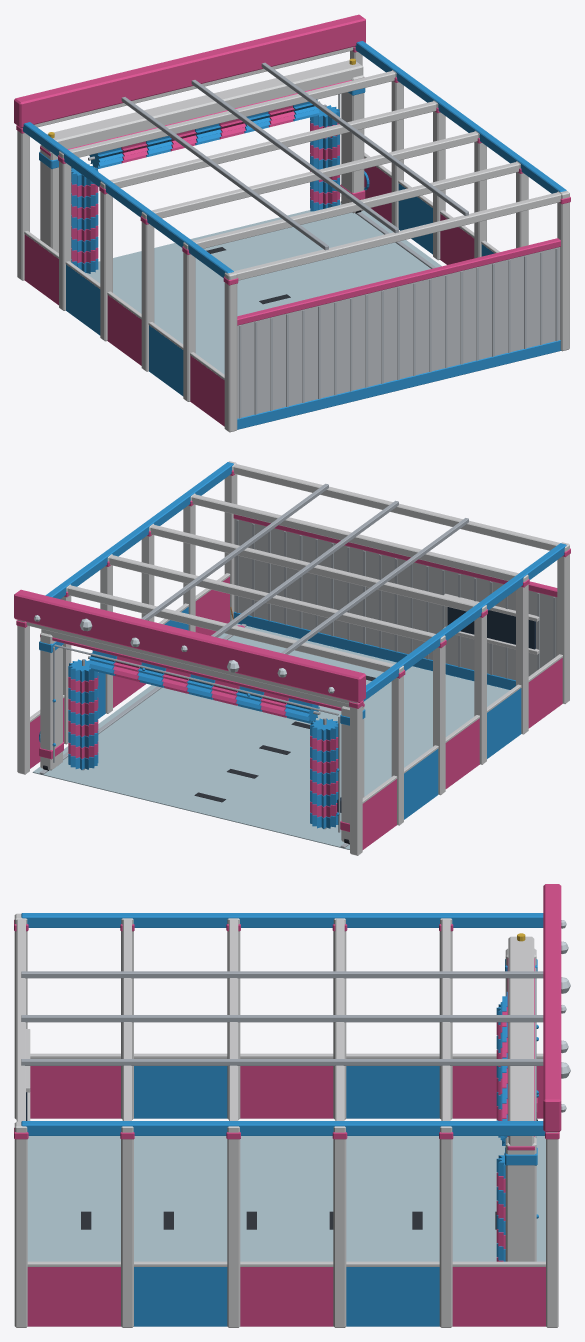
The model's file is skyport-jetwash.glb.
3 renders of one model, top to bottom at view 1: azimuth 30°, elevation 25°; view 2: azimuth 150°, elevation 25°; view 3: azimuth 270°, elevation 25°, orthographic. The views are drawn at different scales.
Parts seen in each view (by area): view 1: sp_jetwash_mesh, sp_jetwash_gantry_mesh, sp_jetwash_brusht_mesh, sp_jetwash_brushl_mesh, sp_jetwash_brushr_mesh; view 2: sp_jetwash_mesh, sp_jetwash_gantry_mesh, sp_jetwash_brusht_mesh, sp_jetwash_brushr_mesh, sp_jetwash_brushl_mesh; view 3: sp_jetwash_mesh, sp_jetwash_gantry_mesh, sp_jetwash_brushr_mesh, sp_jetwash_brusht_mesh.
Part boxes in pixels (left/top/right/bottom): sp_jetwash_mesh: left=14, top=14, right=570, bottom=432; sp_jetwash_gantry_mesh: left=39, top=58, right=365, bottom=253; sp_jetwash_brusht_mesh: left=88, top=99, right=320, bottom=168; sp_jetwash_brushl_mesh: left=71, top=164, right=98, bottom=273; sp_jetwash_brushr_mesh: left=310, top=104, right=339, bottom=211; sp_jetwash_mesh: left=14, top=461, right=570, bottom=855; sp_jetwash_gantry_mesh: left=39, top=629, right=365, bottom=844; sp_jetwash_brusht_mesh: left=88, top=650, right=320, bottom=723; sp_jetwash_brushr_mesh: left=68, top=659, right=98, bottom=770; sp_jetwash_brushl_mesh: left=310, top=718, right=338, bottom=829; sp_jetwash_mesh: left=14, top=884, right=570, bottom=1327; sp_jetwash_gantry_mesh: left=505, top=933, right=538, bottom=1261; sp_jetwash_brushr_mesh: left=496, top=1152, right=505, bottom=1261; sp_jetwash_brusht_mesh: left=500, top=992, right=507, bottom=1145.
Bounding box in the file's own units: 19.8 × 9.8 × 21.5.
